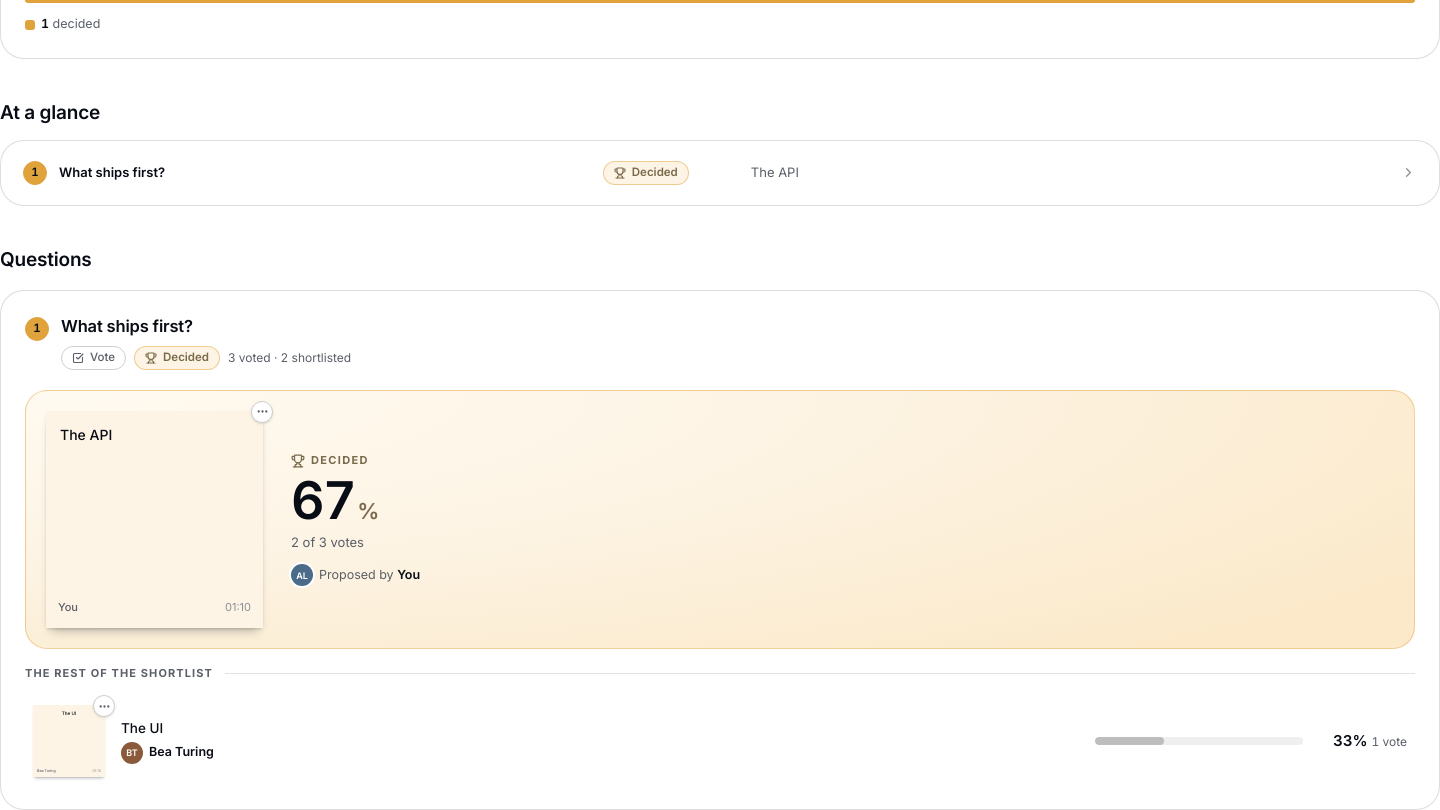
SessionSummaryView › opens a ranked note in the board’s enlarged view, and puts it away again
(page scrolled)
Click the button with aria-label "Enlarge: The UI" at coordinates (69, 741), box [33,705,105,777]
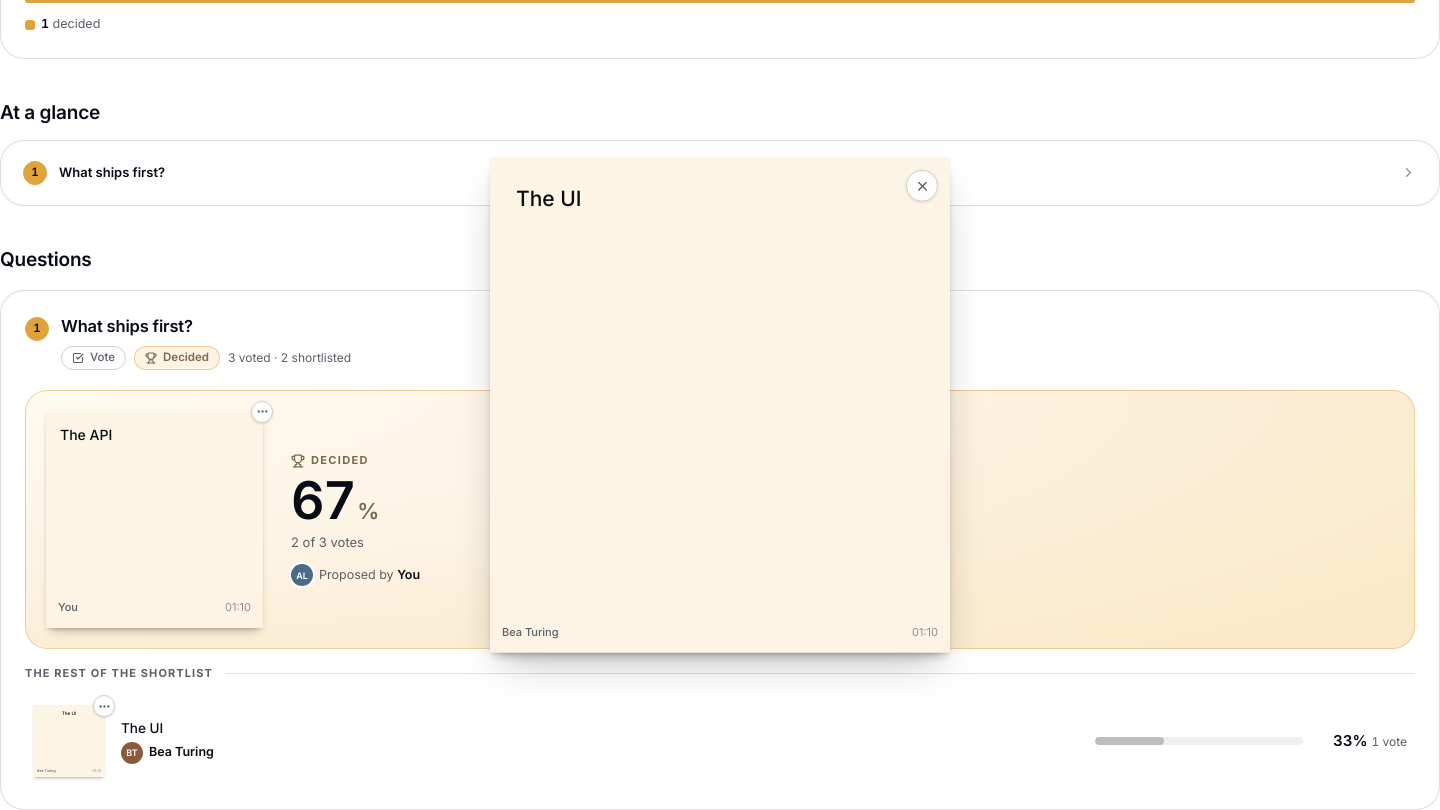
Expected: the 1st text "The UI" is shown, [516,186,582,211]
Press Escape
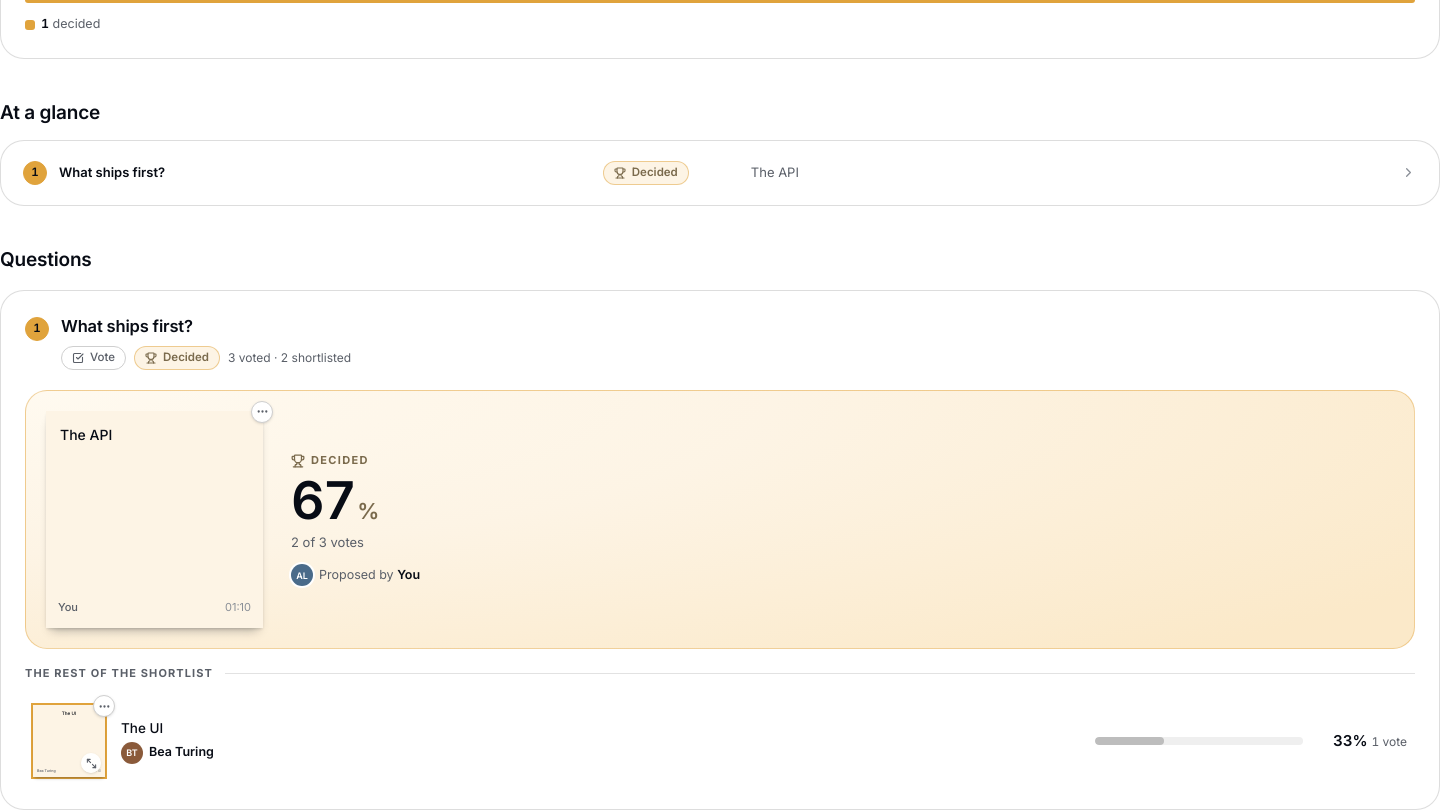
Expected: the dialog is gone
